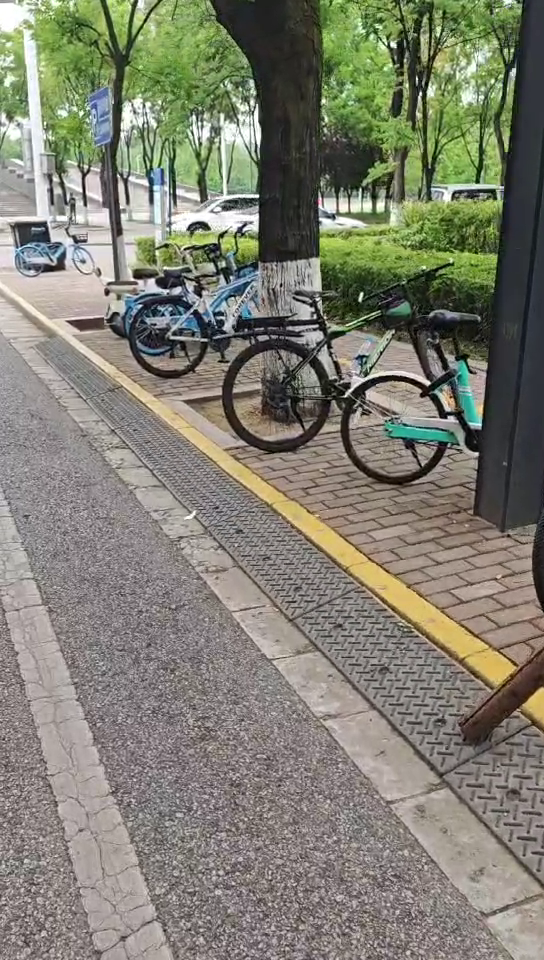others: (239, 284, 454, 439), (135, 272, 297, 367)
shared_bike_haluo: (119, 252, 268, 351), (13, 214, 96, 280)
shared_bike_qingcong: (344, 308, 517, 488)
